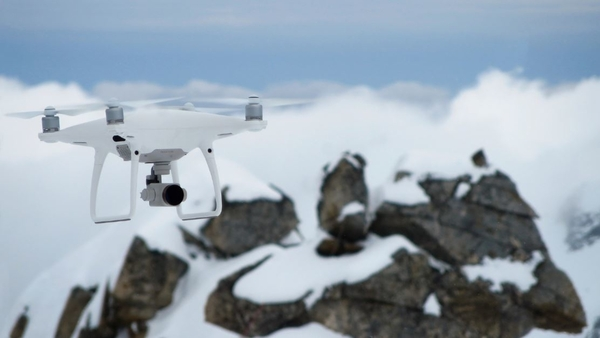drone: (2, 95, 315, 226)
